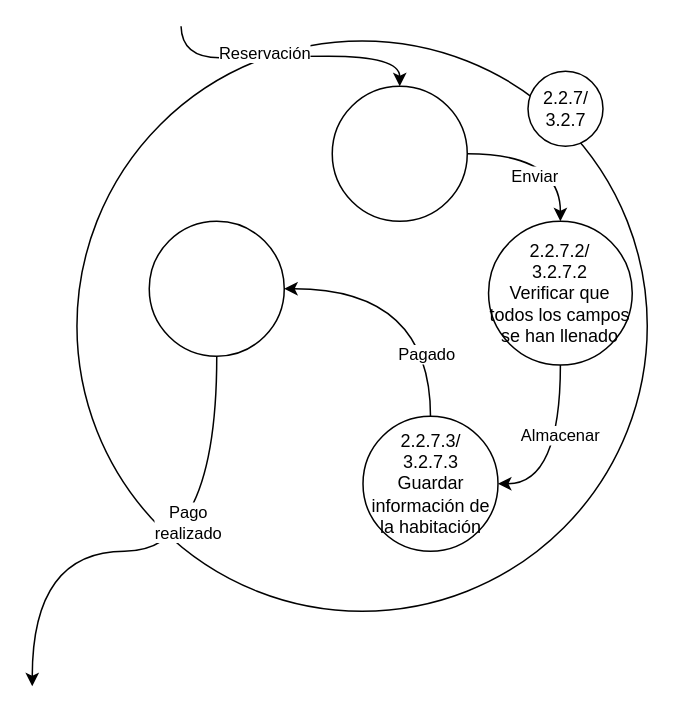
This 674x711 diagram has some shape labels left out. The shapes that lost their labels are listed below. From the top down, each one's centre as x and y in pixels, then its label:
At [399,153]: "2.2.7.1/ 3.2.7.1 Llenar campos".
At [216,288]: "2.2.7.4/ 3.2.7.4 Actualizar tabla".
